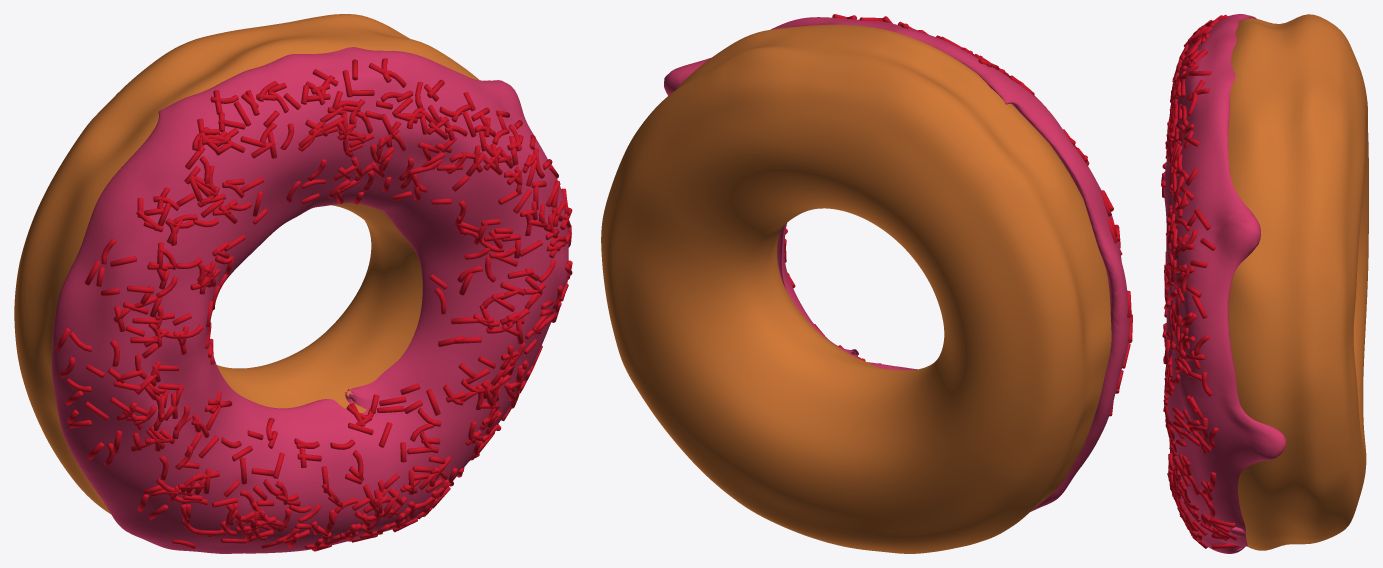
The model's file is bussindoughnut.fbx.
3 renders of one model, left to right at view 1: azimuth 30°, elevation 25°; view 2: azimuth 150°, elevation 25°; view 3: azimuth 270°, elevation 25°, orthographic. The views are drawn at different scales.
Parts seen in each view (by area): view 1: ice_001, doughnut; view 2: doughnut, ice_001; view 3: doughnut, ice_001.
Boxes of the visible parts, x1,y1,x2,y2 form: ice_001: (51, 47, 572, 553); doughnut: (14, 14, 479, 513); doughnut: (601, 24, 1111, 553); ice_001: (664, 14, 1132, 511); doughnut: (1228, 14, 1368, 550); ice_001: (1161, 14, 1286, 553).
Bounding box in the file's own units: 156 × 147 × 57.72.
